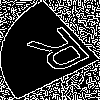R: (25, 24, 100, 83)
